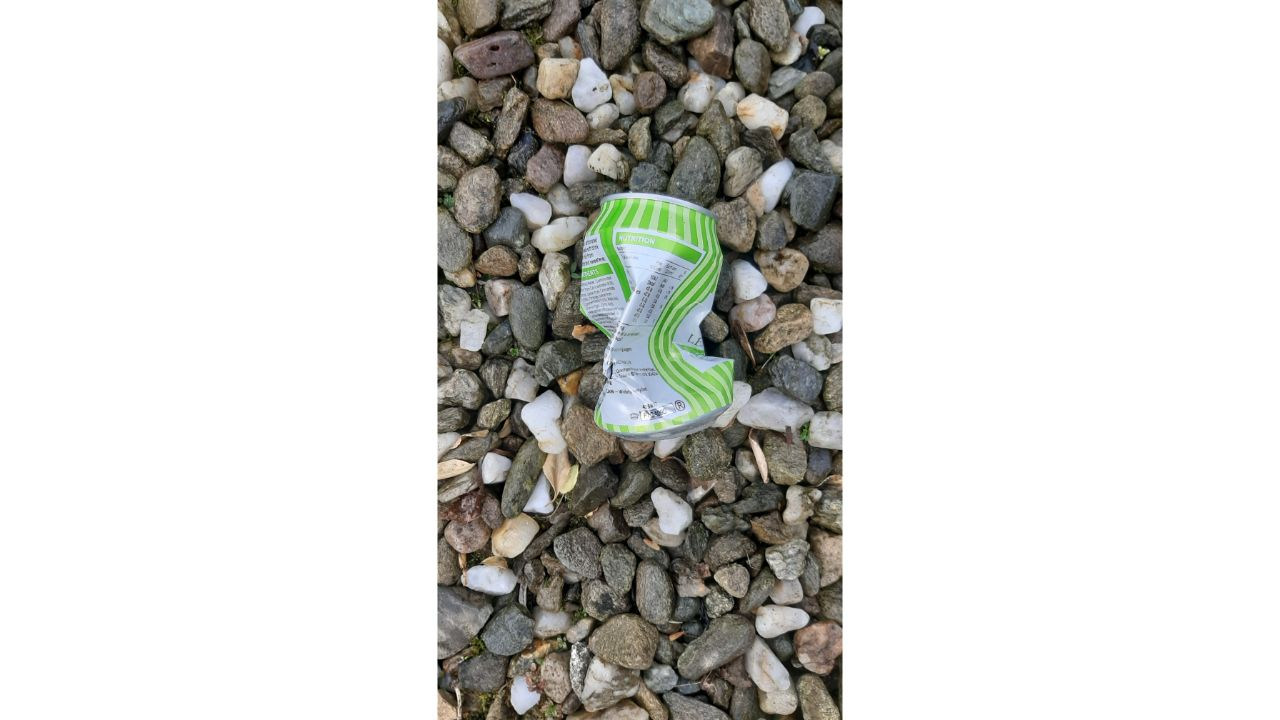Can: (579, 193, 736, 439)
